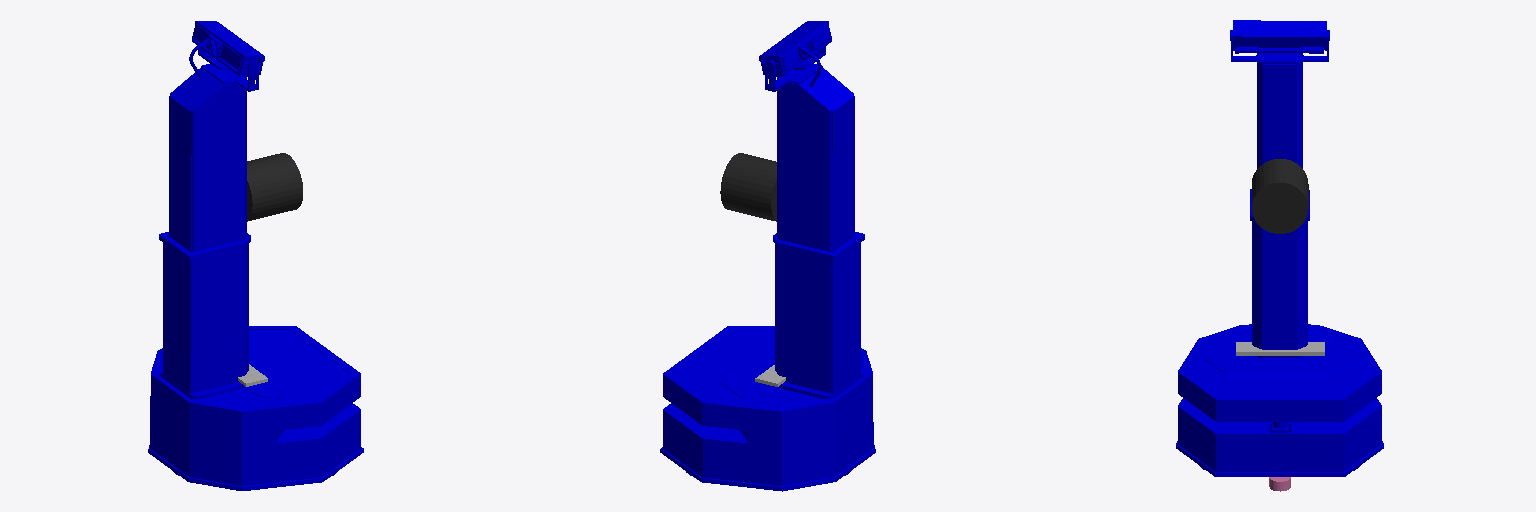
URDF robot description (WPR1):
<?xml version="1.0"?>
<robot name="WPR1">

  <!-- material -->
  <material name = "black">
    <color rgba = "0.01 0.01 0.01 1"/>
  </material>
  <material name = "grey">
    <color rgba = "0.2 0.2 0.2 1"/>
  </material>
  <material name = "light_grey">
    <color rgba = "0.5 0.5 0.5 1"/>
  </material>
  <material name = "blue">
    <color rgba = "0.0 0.0 0.9 1"/>
  </material>

<link name="dummy">
   </link>
  <joint name="dummy_joint" type="fixed">
     <parent link="dummy"/>
     <child link="base_footprint"/>
   </joint>

<link name="base_footprint">
    <visual>
      <origin xyz="0 0 0" rpy="0 0 0" />
      <geometry>
        <box size="0.05 0.05 0.001" />
      </geometry>
      <material name="TransparentGreen" />
    </visual>
    <collision>
      <origin xyz="0 0 .1" rpy="0 0 0" />
      <geometry>
        <box size="0.76 0.5 .2"/>
      </geometry>
    </collision>
    <inertial>
    <mass value="10"/>
    <inertia ixx="0.4" ixy="0.0" ixz="0.0" iyy="0.4" iyz="0.0" izz="0.2"/>
    </inertial>
</link>

<joint name="base_joint" type="fixed">
  <origin xyz="0 0 0" rpy="0 0 0" />
  <parent link="base_footprint"/>
  <child link="base_link" />
</joint>

  <!-- base -->
  <link name="base_link">
  <visual>
   <geometry>
    <mesh filename="package://wpr1_bringup/meshes/base.STL" scale="1 1 1"/>
   </geometry>
    <material name = "blue"/>
   <origin rpy = "1.57 0 -1.57" xyz = "0.22 .293 0"/>
  </visual>
  </link>

  <!-- torso -->
  <link name = "torso_link">
    <visual>
      <geometry>
        <mesh filename="package://wpr1_bringup/meshes/torso.STL" scale="1 1 1"/>
      </geometry>
      <material name = "blue"/>
      <origin rpy = "1.57 0 0" xyz = "-0.018 0.975 0"/>
    </visual>
  </link>
  <joint name = "0_torso_lift" type="prismatic">
    <parent link = "base_link"/>
    <child link = "torso_link"/>
    <axis xyz="0 0 1"/>
    <limit effort="1000.0" lower="0" upper="0.4" velocity="0.5"/>
    <origin rpy="0 0 0" xyz="-0.255 0 0.287"/> <!--pos-->
  </joint>

   <!-- ****manipulator ****-->
    <!-- mani_part_1 -->
    <link name = "wpm2_joint_1">
        <visual>
            <geometry>
                <cylinder length="0.16" radius="0.08"/>
            </geometry>
            <material name = "grey"/>
            <origin rpy = "0 0 0" xyz = "0 0 0.08"/><!-- -->
        </visual>
    </link>
    <joint name = "base_joint1" type = "fixed">
        <parent link = "torso_link"/>
        <child link = "wpm2_joint_1"/>
        <origin xyz="0.185 0.00 0.515" rpy="0 1.57 0" /> <!--x:dist of root to torso y:left z:up-->
    </joint>

    <!-- mani_part_2 -->
    <link name = "wpm2_joint_2">
        <visual>
            <geometry>
                <mesh filename="package://wpr1_bringup/meshes/wpm2_joint_2.stl" scale="1 1 1"/>
            </geometry>
            <material name = "light_grey"/>
            <origin rpy = "-1.57 0 1.57" xyz = "0.135 -0.07 0.1285"/>
        </visual>
    </link>
    <joint name = "1_shoulder_roll" type = "revolute">
        <parent link = "wpm2_joint_1"/>
        <child link = "wpm2_joint_2"/>
        <axis xyz = "0 0 1"/>
        <origin xyz = "0 0 0.1585"/>
        <limit effort = "1000.0" lower="-3.14" upper="3.14" velocity="0.5"/>
    </joint>

    <!-- mani_part_3 -->
    <link name = "wpm2_joint_3">
        <visual>
            <geometry>
                <mesh filename="package://wpr1_bringup/meshes/wpm2_joint_3.stl" scale="1 1 1"/>
            </geometry>
            <material name = "grey"/>
            <origin rpy = "1.57 0 1.57" xyz = "-0.12 -0.08 -0.048"/>
        </visual>
    </link>
    <joint name = "2_shoulder_flex" type = "revolute">
        <parent link = "wpm2_joint_2"/>
        <child link = "wpm2_joint_3"/>
        <axis xyz = "0 -1 0"/>
        <origin xyz = "0 0 0.0825"/>
        <limit effort = "1000.0" lower="-3.14" upper="3.14" velocity="0.5"/>
    </joint>

    <!-- mani_part_4 -->
    <link name = "wpm2_joint_4">
        <visual>
            <geometry>
                <mesh filename="package://wpr1_bringup/meshes/wpm2_joint_4.stl" scale="1 1 1"/>
            </geometry>
            <material name = "light_grey"/>
            <origin rpy = "0 1.57 0" xyz = "-0.116 -0.057 0.122"/>
        </visual>
    </link>
    <joint name = "3_upperarm_roll" type = "revolute">
        <parent link = "wpm2_joint_3"/>
        <child link = "wpm2_joint_4"/>
        <axis xyz = "0 0 1"/>
        <origin xyz = "0 0 0.197"/>
        <limit effort = "1000.0" lower="-3.14" upper="3.14" velocity="0.5"/>
    </joint>

    <!-- mani_part_5 -->
    <link name = "wpm2_joint_5">
        <visual>
            <geometry>
                <mesh filename="package://wpr1_bringup/meshes/wpm2_joint_5.stl" scale="1 1 1"/>
            </geometry>
            <material name = "grey"/>
            <origin rpy = "0 -1.57 0" xyz = "0.107 -0.053 -0.033"/>
        </visual>
    </link>
    <joint name = "4_elbow_flex" type = "revolute">
        <parent link = "wpm2_joint_4"/>
        <child link = "wpm2_joint_5"/>
        <axis xyz = "1 0 0"/>
        <origin xyz = "0 0 0.076"/>
        <limit effort = "1000.0" lower="-3.14" upper="3.14" velocity="0.5"/>
    </joint>

    <!-- mani_part_6 -->
    <link name = "wpm2_joint_6">
        <visual>
            <geometry>
                <mesh filename="package://wpr1_bringup/meshes/wpm2_joint_4.stl" scale="1 1 1"/>
            </geometry>
            <material name = "light_grey"/>
            <origin rpy = "0 1.57 1.57" xyz = "0.055 -0.115 0.122"/>
        </visual>
    </link>
    <joint name = "5_forearm_roll" type = "revolute">
        <parent link = "wpm2_joint_5"/>
        <child link = "wpm2_joint_6"/>
        <axis xyz = "0 0 1"/>
        <origin xyz = "0 0 0.197"/>
        <limit effort = "1000.0" lower="-3.14" upper="3.14" velocity="0.5"/>
    </joint>

    <!-- mani_palm -->
    <link name = "wpm2_palm">
        <visual>
            <geometry>
                <mesh filename="package://wpr1_bringup/meshes/wpm2_palm.stl" scale="1 1 1"/>
            </geometry>
            <material name = "grey"/>
            <origin rpy = "0 -1.57 1.57" xyz = "0.0566 0.0985 -0.034"/>
        </visual>
    </link>
    <joint name = "6_wrist_flex" type = "revolute">
        <parent link = "wpm2_joint_6"/>
        <child link = "wpm2_palm"/>
        <axis xyz = "0 1 0"/>
        <origin xyz = "0 0 0.076"/>
        <limit effort = "1000.0" lower="-3.14" upper="3.14" velocity="0.5"/>
    </joint>

    <!-- finger -->
    <link name = "wpm2_left_finger">
        <visual>
            <geometry>
                <mesh filename="package://wpr1_bringup/meshes/wpm2_finger.stl" scale="0.001 0.001 0.001"/>
            </geometry>
                <material name = "light_grey"/>
            <origin rpy = "1.57 0 -1.57" xyz = ".021 0.005 -0.005"/>
        </visual>
    </link>
    <joint name = "7_gripper" type = "revolute">
        <parent link = "wpm2_palm"/>
        <child link = "wpm2_left_finger"/>
        <origin xyz = "0 0.06 0.219"/>
        <axis xyz = "-1 0 0"/>
        <limit effort = "1000.0" lower="0" upper="1.0" velocity="0.5"/>
    </joint>
    <link name = "wpm2_right_finger">
        <visual>
            <geometry>
                <mesh filename="package://wpr1_bringup/meshes/wpm2_finger.stl" scale="0.001 0.001 0.001"/>
            </geometry>
                <material name = "light_grey"/>
            <origin rpy = "1.57 0 1.57" xyz = "-0.0175 -0.005 -0.005"/>
        </visual>
    </link>
    <joint name = "wpm2_palm_right_finger" type = "revolute">
        <parent link = "wpm2_palm"/>
        <child link = "wpm2_right_finger"/>
        <origin xyz = "0 -0.06 0.219"/>
        <axis xyz = "1 0 0"/>
        <limit effort = "1000.0" lower="0" upper="1.0" velocity="0.5"/>
        <mimic joint = "7_gripper" multiplier = "1" offset = "0"/>
    </joint>

    <!-- tip -->
    <link name = "wpr1_tip">
    </link>
    <joint name = "palm_tip" type = "fixed">
        <parent link = "wpm2_palm"/>
        <child link = "wpr1_tip"/>
        <origin xyz="0 0 0.32" rpy="0 -1.57 0" />
    </joint>
    
    <!-- ********* sensor ********-->
    <!-- Lidar -->
    <link name = "laser">
        <visual>
            <geometry>
                <cylinder length="0.03" radius="0.03"/>
            </geometry>
            <origin rpy = "0 0 0" xyz = "0 0 0"/>
        </visual>
    </link>
    <joint name="laser_joint" type="fixed">
        <origin rpy="0 0 0" xyz="0.19 0 0"  /> <!--pos-->
        <parent link="base_link" />
        <child link="laser" />
    </joint>

    <!-- Kinect -->
    <link name = "kinect2_dock">
    <visual>
    <geometry>
        <box size=".01 .25 .07"/>
        <box size="0 0 0"/>
    </geometry>
    <origin rpy = "0 0 0" xyz = "0 0 0"/>
    <material name = "red"/>
    </visual>
    </link>
    <joint name="kinect_height" type="prismatic">
        <parent link="torso_link"/>
        <child link="kinect2_dock"/>
        <limit effort="1000.0" lower="0" upper="1.35" velocity="0.5"/>
        <origin xyz="0.174 0 0" rpy="0 -1.5707963 0"/>
    </joint>

    <link name = "kinect2_ir_optical_frame">
    <visual>
    <geometry>
        <!-- <box size=".25 .04 .07"/>-->
        <box size="0 0 0"/>
    </geometry>
    <origin xyz = "0 0 0" rpy = "0 0 0"/>
    <material name = "blue"/>
    </visual>
    </link>

    <joint name="kinect_pitch" type="revolute">
        <axis xyz="1 0 0"/>
        <limit effort="1000.0" lower="-1.57" upper="1.57" velocity="0.5"/>
        <origin xyz="0 0 0" rpy="3.1415926 0 -1.5707963" /> <!--pos-->
        <parent link="kinect2_dock" />
        <child link="kinect2_ir_optical_frame" />
    </joint>

    <link name = "kinect2_rgb_optical_frame">
    <visual>
    <geometry>
        <box size="0 0 0"/>
    </geometry>
    <origin rpy = "0 0 0" xyz = "0 0 0" />
    <material name = "blue" />
    </visual>
    </link>
    <joint name="kinect_hd_joint" type="fixed">
        <origin xyz="0 0 0" rpy="0 0 0" /> <!--pos-->
        <parent link="kinect2_ir_optical_frame" />
        <child link="kinect2_rgb_optical_frame" />
    </joint>
    </robot>

--- What the picture shows (computed from the rendered views, not written in the file) ---
3 views of the same robot in one strip: view 1: azimuth 30°, elevation 25°; view 2: azimuth 150°, elevation 25°; view 3: azimuth 270°, elevation 25° (orthographic).
Robot: WPR1 — 18 links, 17 joints (9 revolute, 2 prismatic, 6 fixed); root link dummy; default pose: every joint at zero.
Visible links, largest first — view 1: base_link, torso_link, wpm2_joint_1; view 2: base_link, torso_link, wpm2_joint_1; view 3: base_link, torso_link, wpm2_joint_1, kinect2_dock.
Link boxes in pixels (x1=…): base_link: x1=148, y1=232, x2=363, y2=490; torso_link: x1=169, y1=21, x2=264, y2=251; wpm2_joint_1: x1=247, y1=153, x2=302, y2=221; base_link: x1=660, y1=232, x2=875, y2=491; torso_link: x1=759, y1=21, x2=854, y2=251; wpm2_joint_1: x1=720, y1=153, x2=776, y2=221; base_link: x1=1176, y1=189, x2=1383, y2=476; torso_link: x1=1230, y1=20, x2=1329, y2=168; wpm2_joint_1: x1=1252, y1=159, x2=1308, y2=233; kinect2_dock: x1=1236, y1=342, x2=1324, y2=355.
Bounding box of the posed robot: 0.5098 × 0.5863 × 1.3 m (x, y, z).
Meshes: 8 distinct files referenced, 2 mesh visuals loaded (2 binary STL); not drawn: 8 (reference not matched to a file when rendering).
